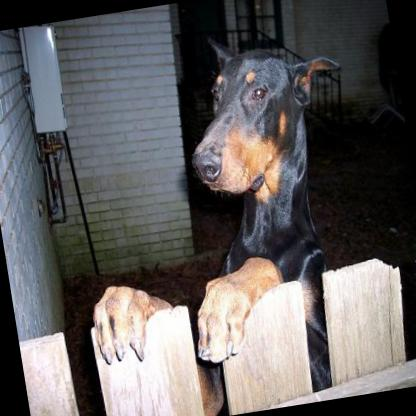Doberman: (45, 18, 394, 416)
